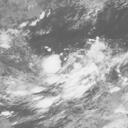cyclone: (37, 55, 95, 95)
